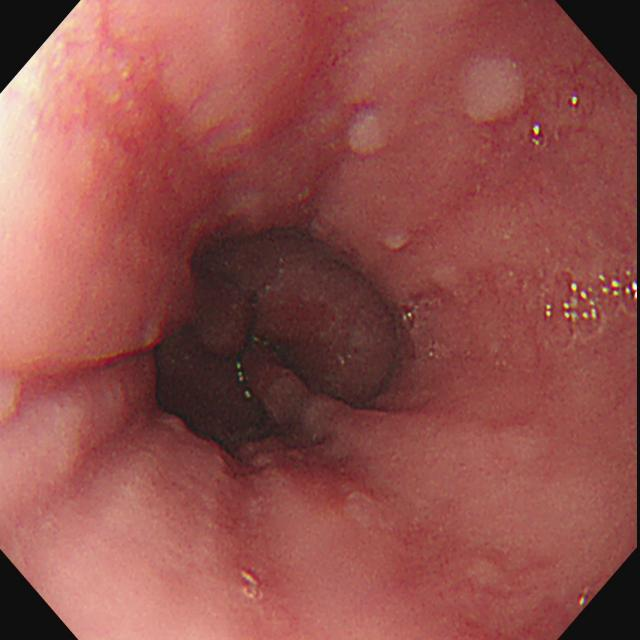D: (290, 447, 378, 513)
I: (164, 227, 400, 465)
J: (454, 43, 538, 134), (335, 103, 401, 166)
T: (543, 265, 637, 347)
